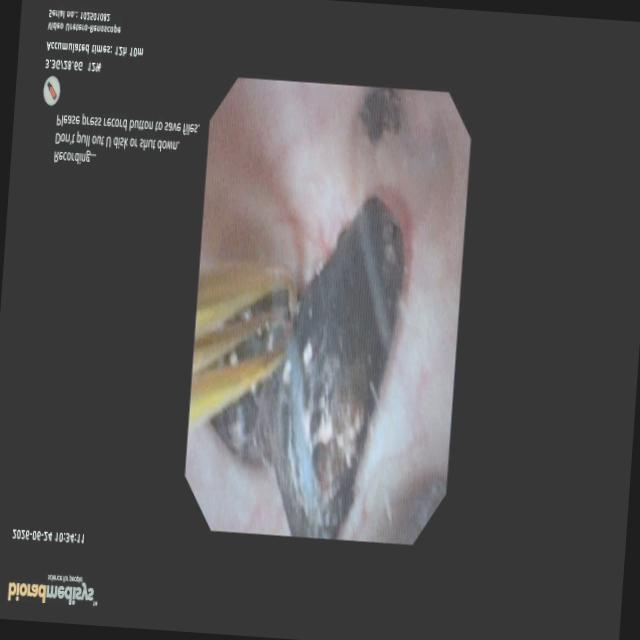stone-new: (215, 197, 403, 538), (222, 322, 281, 364), (360, 87, 401, 144), (243, 297, 277, 319)
